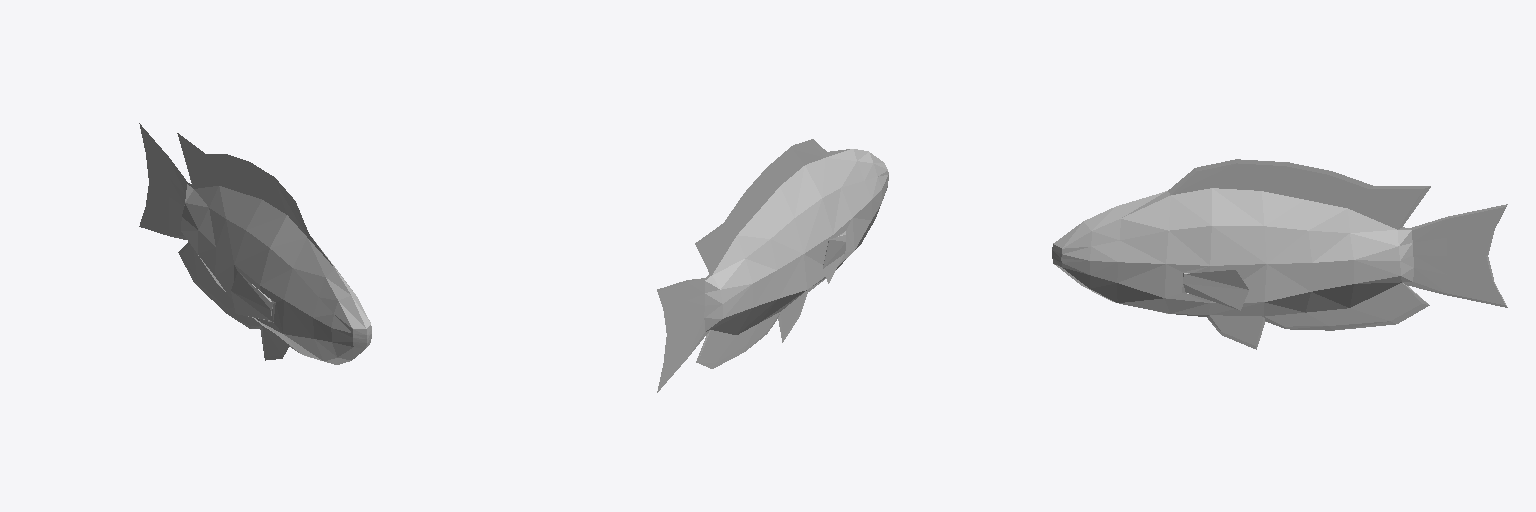
File: fish3.obj
3 renders of one model, left to right at view 1: azimuth 30°, elevation 25°; view 2: azimuth 150°, elevation 25°; view 3: azimuth 270°, elevation 25°, orthographic.
Parts seen in each view (by area): view 1: FISH_Plane.002; view 2: FISH_Plane.002; view 3: FISH_Plane.002.
Boxes of the visible parts, box(x1,y1,x2,y2) form: FISH_Plane.002: box(139, 123, 371, 364); FISH_Plane.002: box(657, 139, 888, 392); FISH_Plane.002: box(1052, 159, 1507, 349).
Bounding box in the file's own units: 0.1473 × 0.3323 × 0.7201.